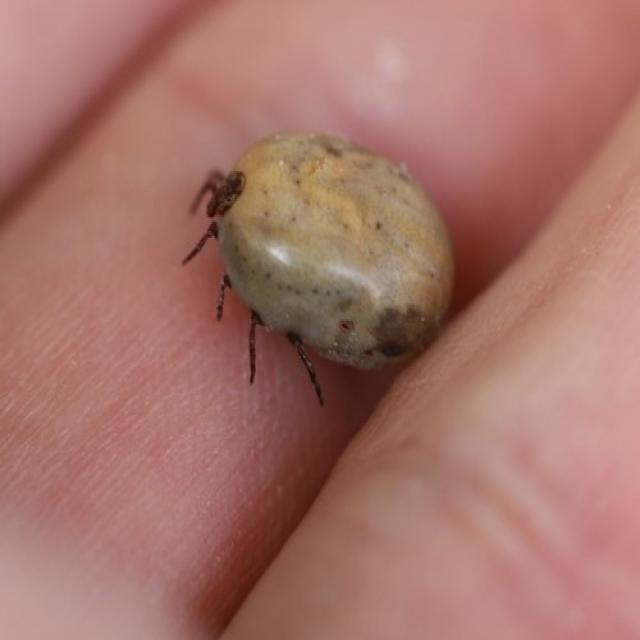Dermacentor Reticulatus-F-Fed: (182, 132, 456, 407)
